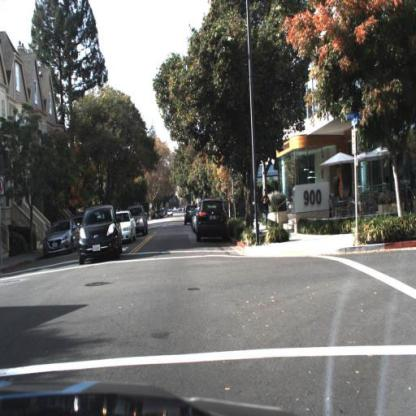car: (75, 208, 124, 261), (196, 197, 230, 246), (42, 219, 80, 254), (131, 203, 152, 236), (119, 210, 137, 244), (135, 205, 149, 233), (185, 204, 199, 230), (182, 202, 194, 230)
pedestrian: (260, 189, 271, 227)
